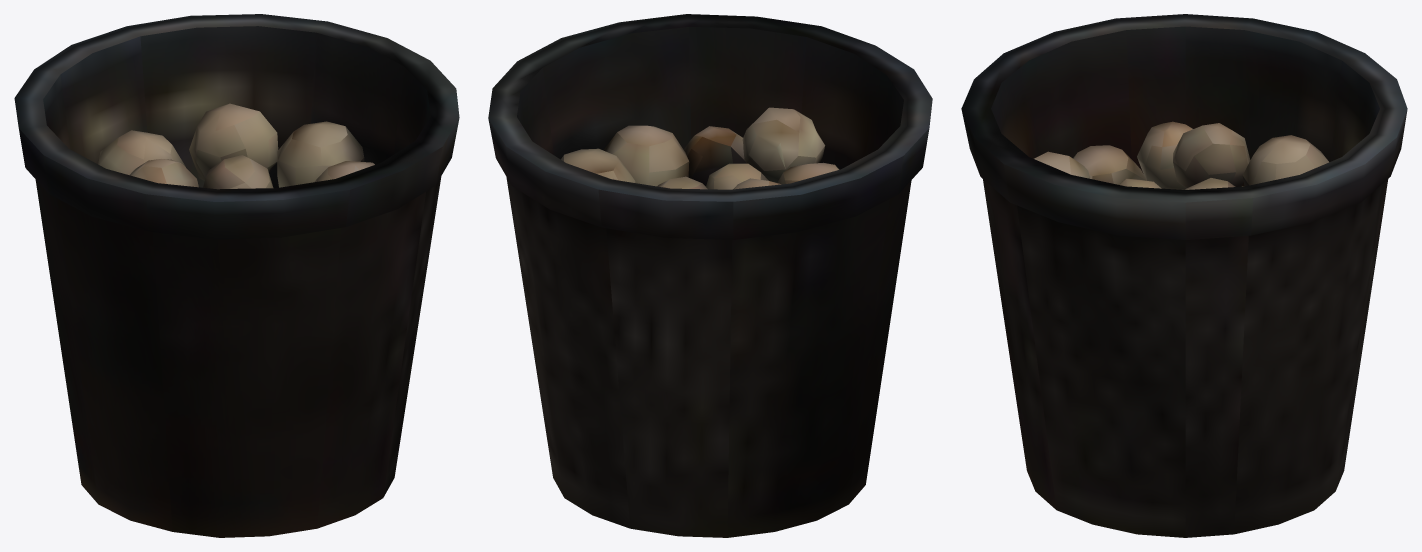
The model's file is OparetionRoom_AI_Prop.026.fbx.
3 renders of one model, left to right at view 1: azimuth 30°, elevation 25°; view 2: azimuth 150°, elevation 25°; view 3: azimuth 270°, elevation 25°, orthographic.
Visible parts, largest first — view 1: OparetionRoom_AI_Prop.026; view 2: OparetionRoom_AI_Prop.026; view 3: OparetionRoom_AI_Prop.026.
Part boxes in pixels (x1,y1,x2,y2): OparetionRoom_AI_Prop.026: [14, 14, 459, 537]; OparetionRoom_AI_Prop.026: [488, 14, 932, 537]; OparetionRoom_AI_Prop.026: [961, 14, 1407, 537].
Bounding box in the file's own units: 61.65 × 55.23 × 61.65.
